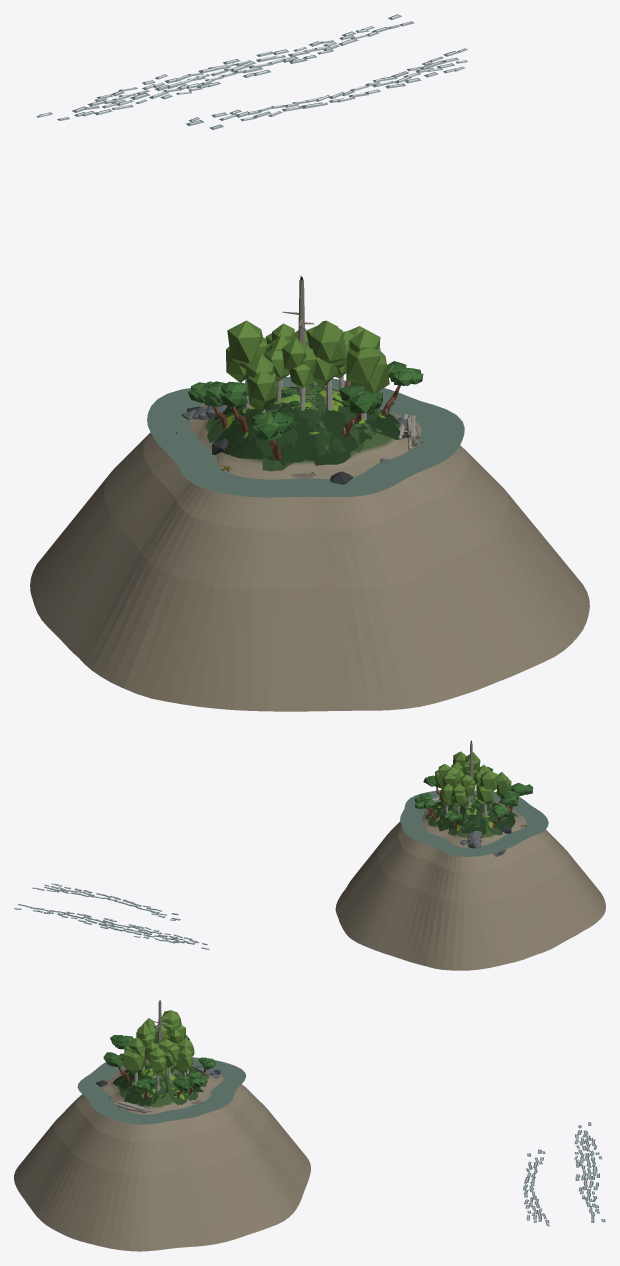
Rendered from chunk_-2_3.glb.
3 views of the same model, one above another, from view 1: azimuth 30°, elevation 25°; view 2: azimuth 150°, elevation 25°; view 3: azimuth 270°, elevation 25° (orthographic). The views are drawn at different scales.
Visible parts, largest first — view 1: chunk_-2_3; view 2: chunk_-2_3; view 3: chunk_-2_3.
Part boxes in pixels (x1=…): chunk_-2_3: x1=30, y1=14, x2=589, y2=711; chunk_-2_3: x1=14, y1=740, x2=605, y2=970; chunk_-2_3: x1=14, y1=999, x2=605, y2=1251.
Bounding box in the file's own units: 117 × 51.39 × 147.
